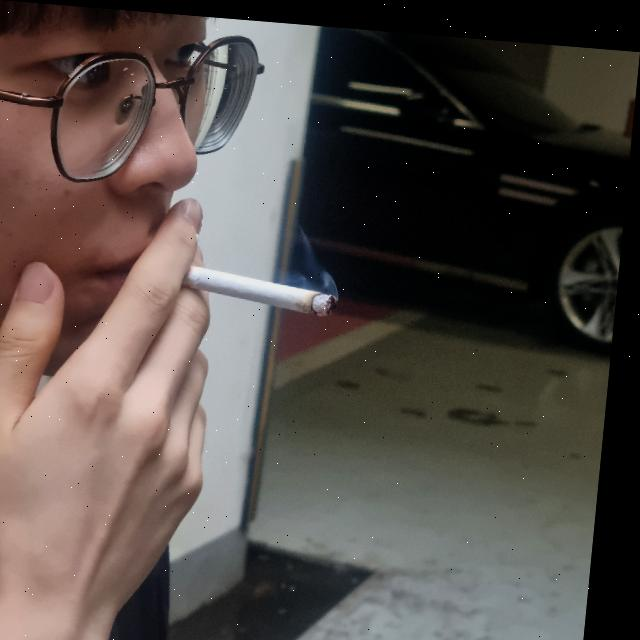cigarette: (179, 262, 348, 314)
